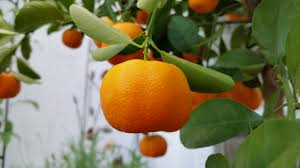orange: (95, 59, 193, 134), (100, 26, 148, 62), (137, 134, 172, 159)
